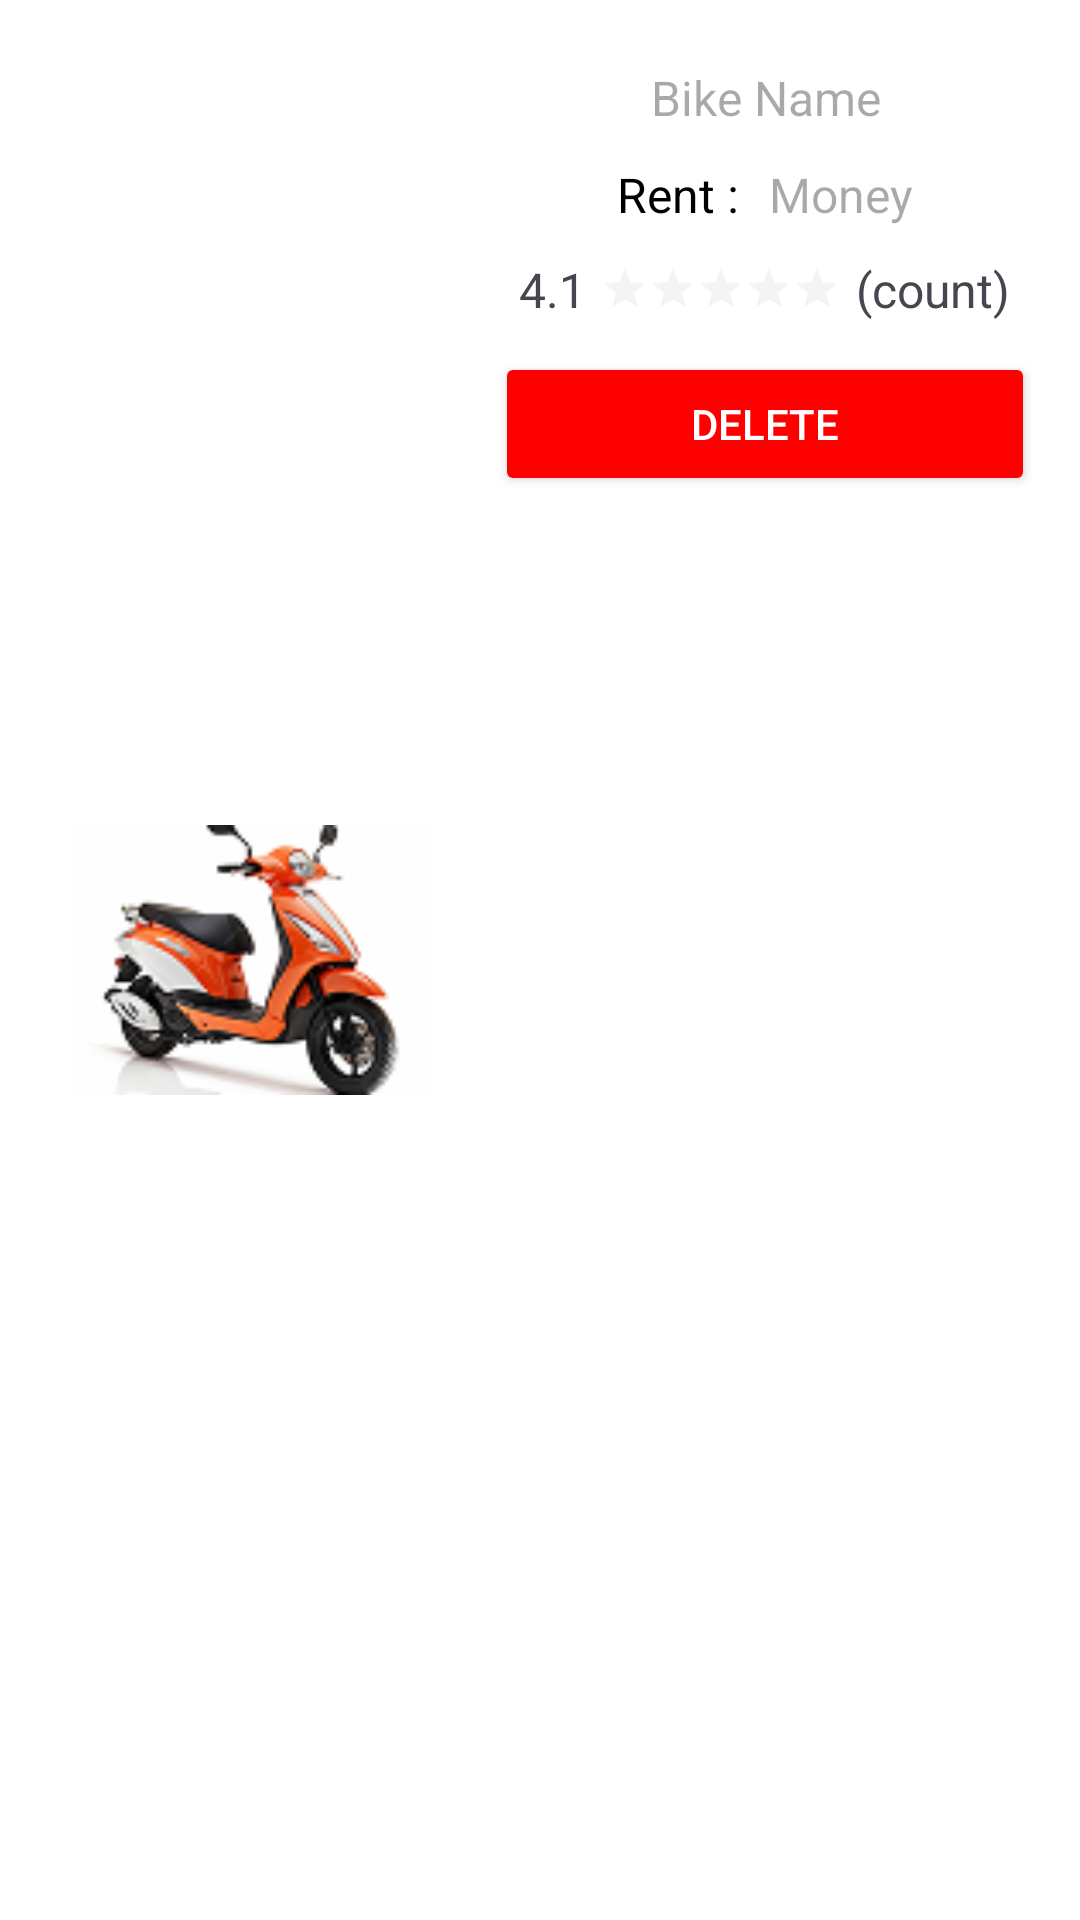

Named icons in this screenshot (1080px x 1920px) and their bounding boxes, detection(x1, y1, x2, y2):
scooty: detection(103, 825, 399, 1095)
